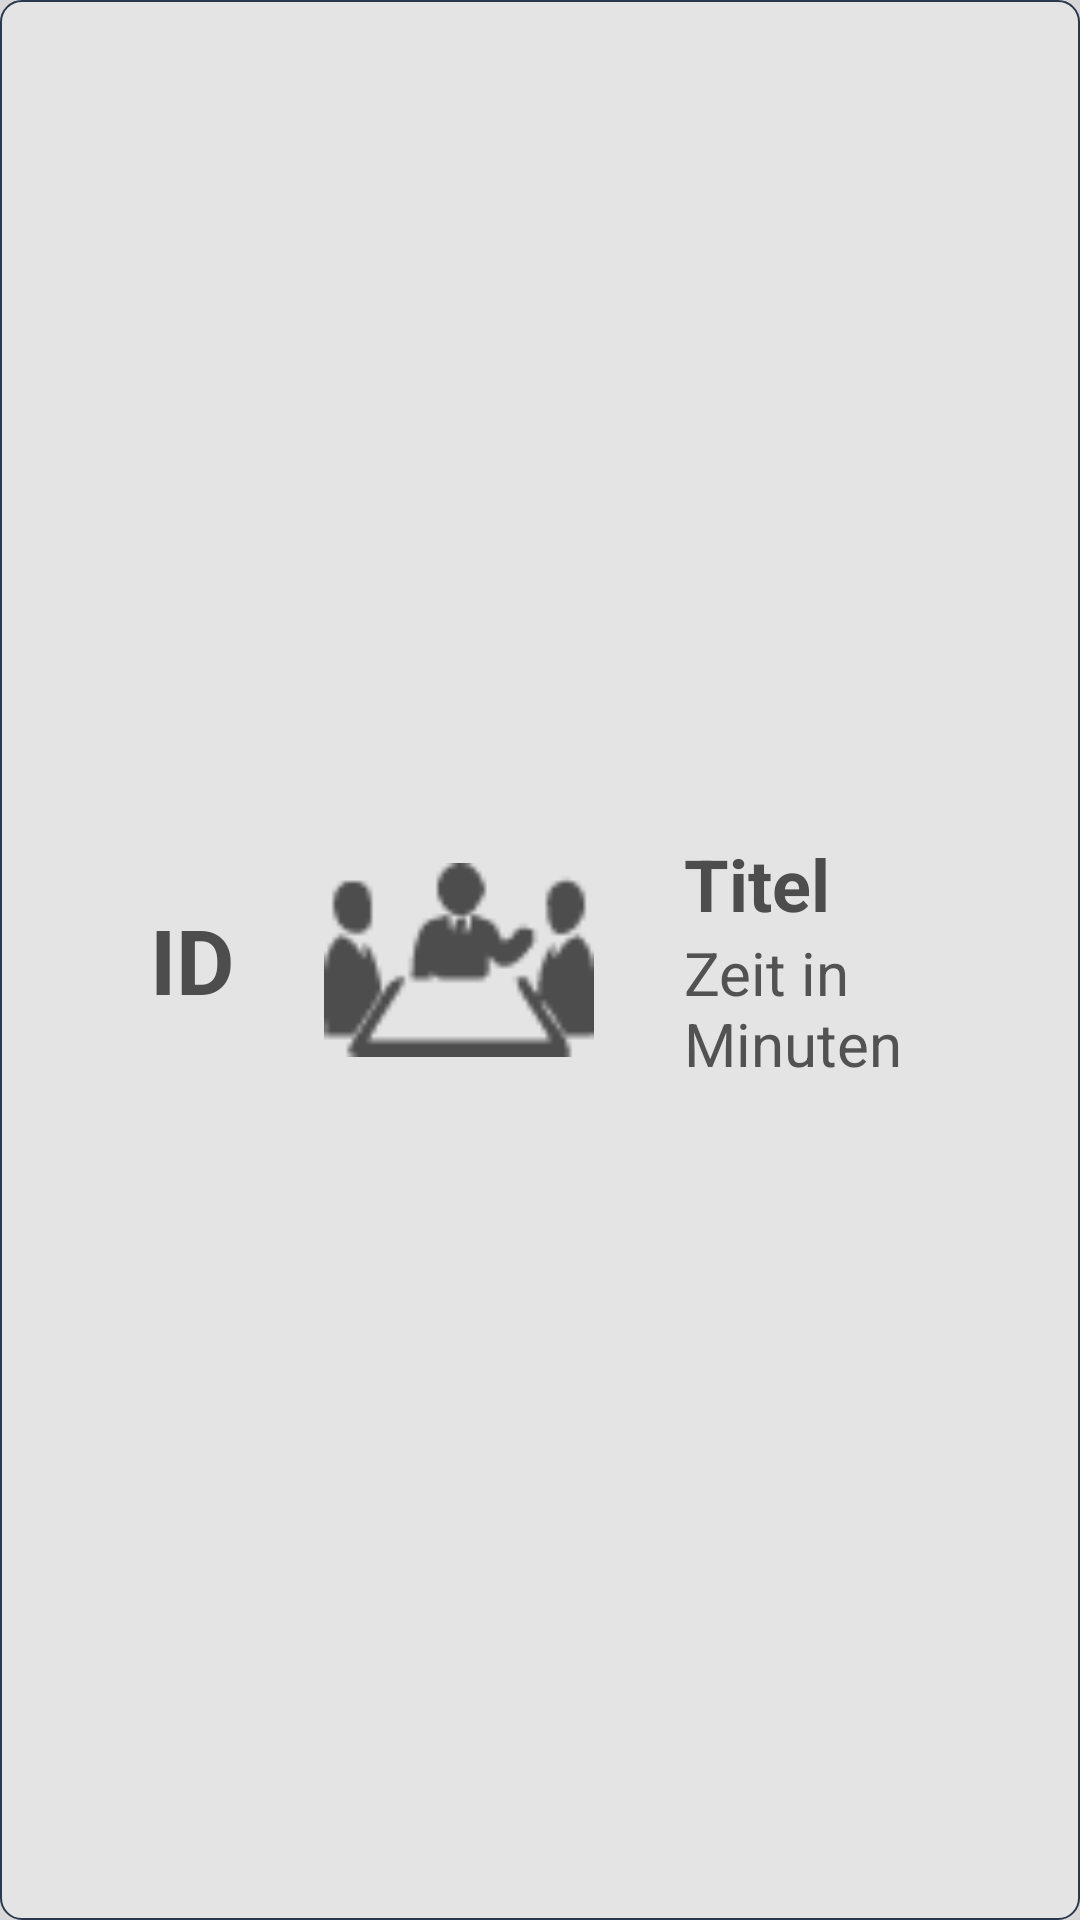

Locate icon controls on the screen. Image size 1080x1920, boxes as (x1, y1, x2, y2).
Diskussion: (324, 863, 594, 1057)
